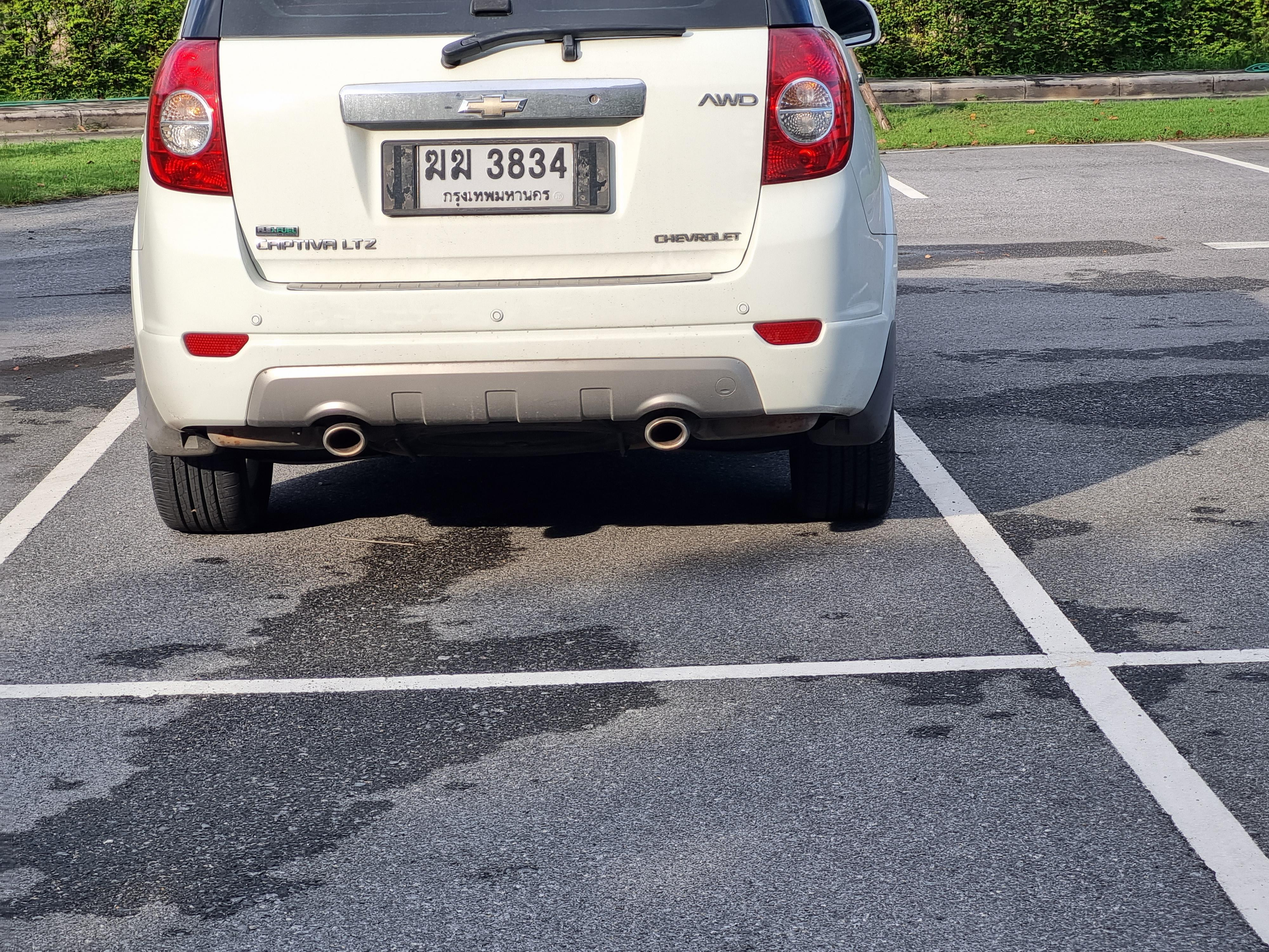license-plate: (397, 138, 599, 219)
